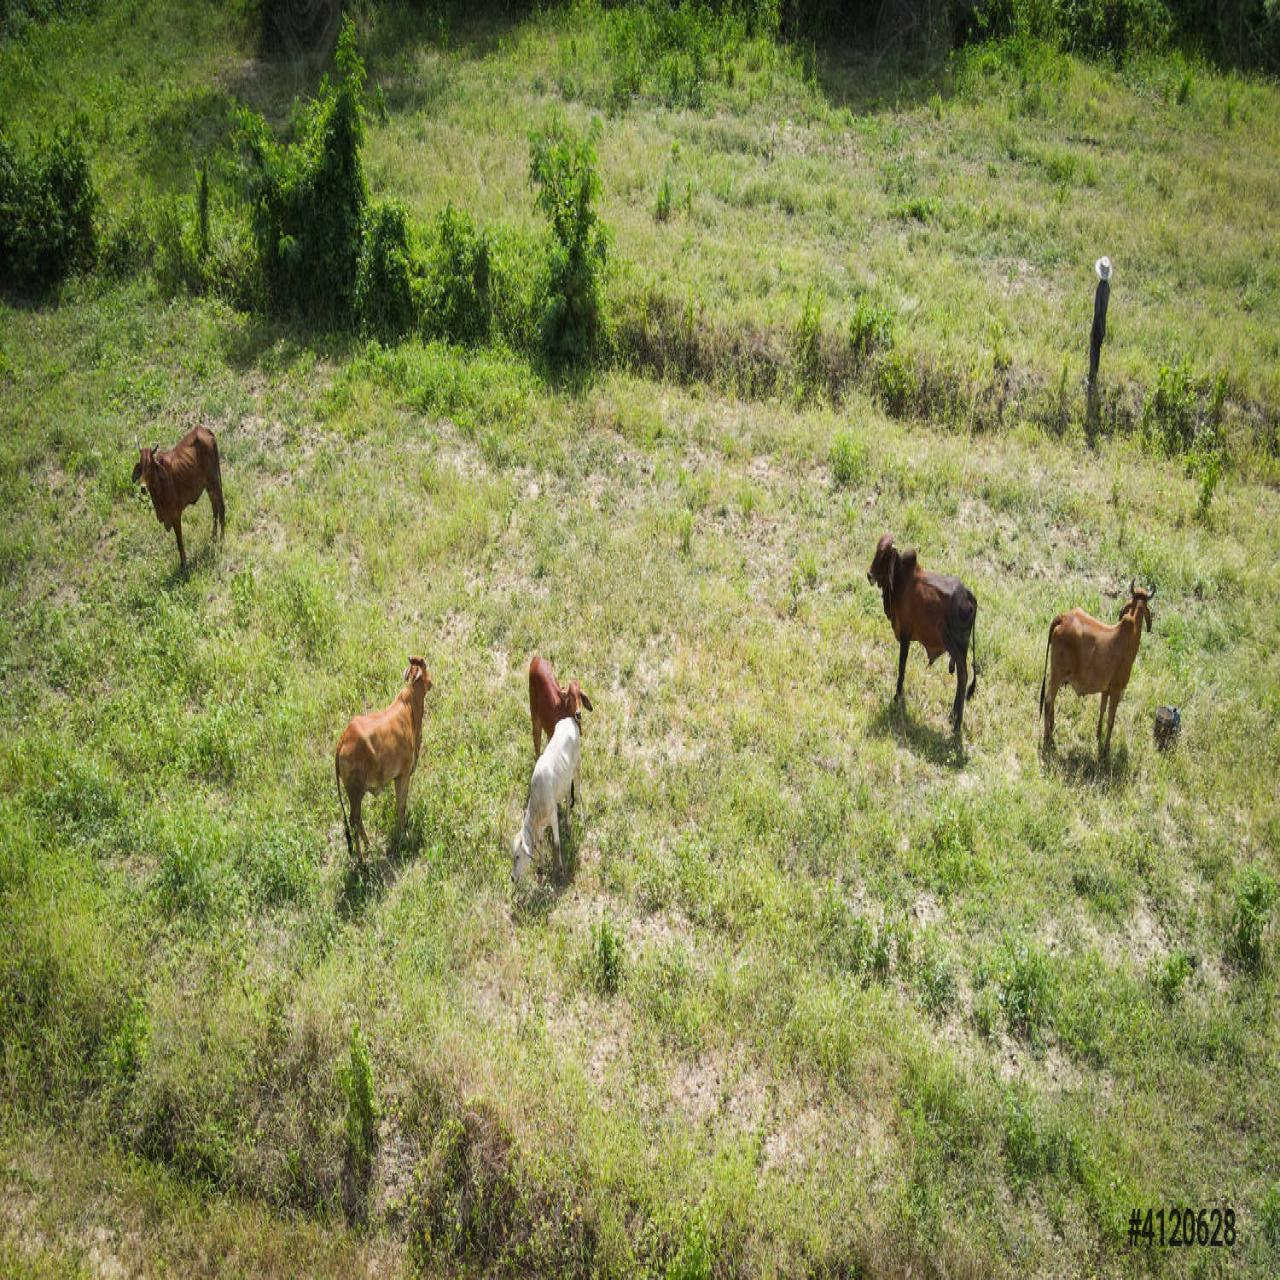cow: (325, 646, 450, 874), (1030, 576, 1162, 784), (863, 530, 986, 749), (117, 411, 243, 590), (508, 717, 584, 898), (526, 639, 590, 761)
